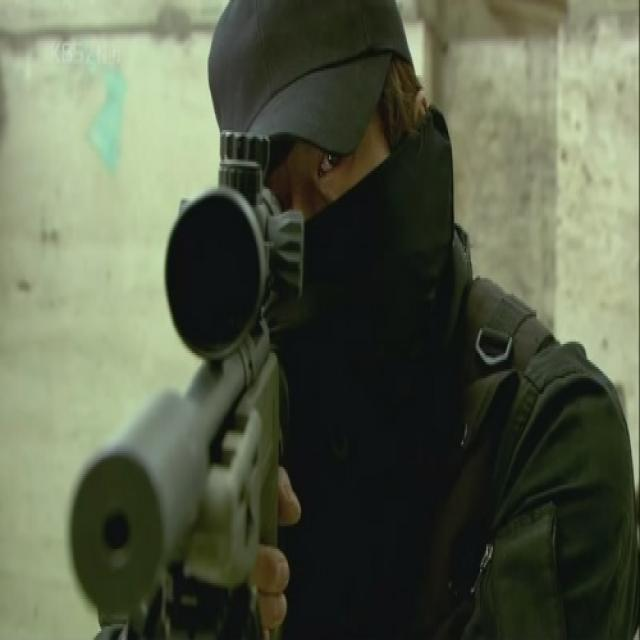rifle: (62, 113, 317, 640)
